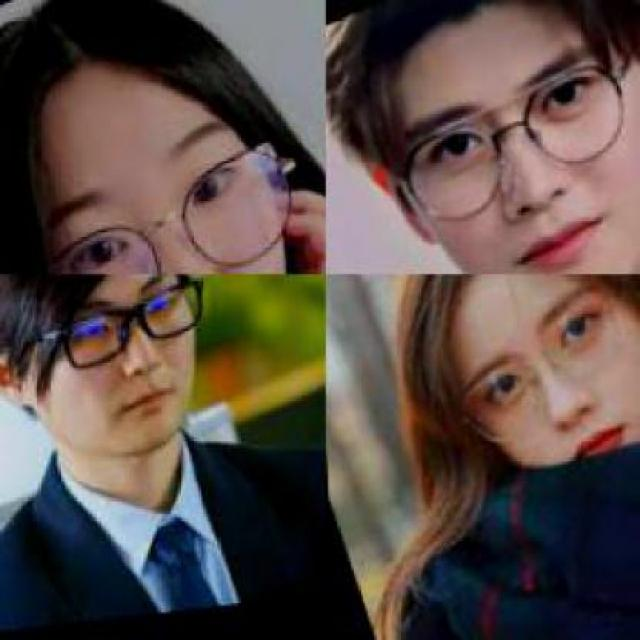glasses: (19, 133, 323, 272), (399, 63, 625, 222), (431, 289, 640, 443), (35, 276, 214, 370)
